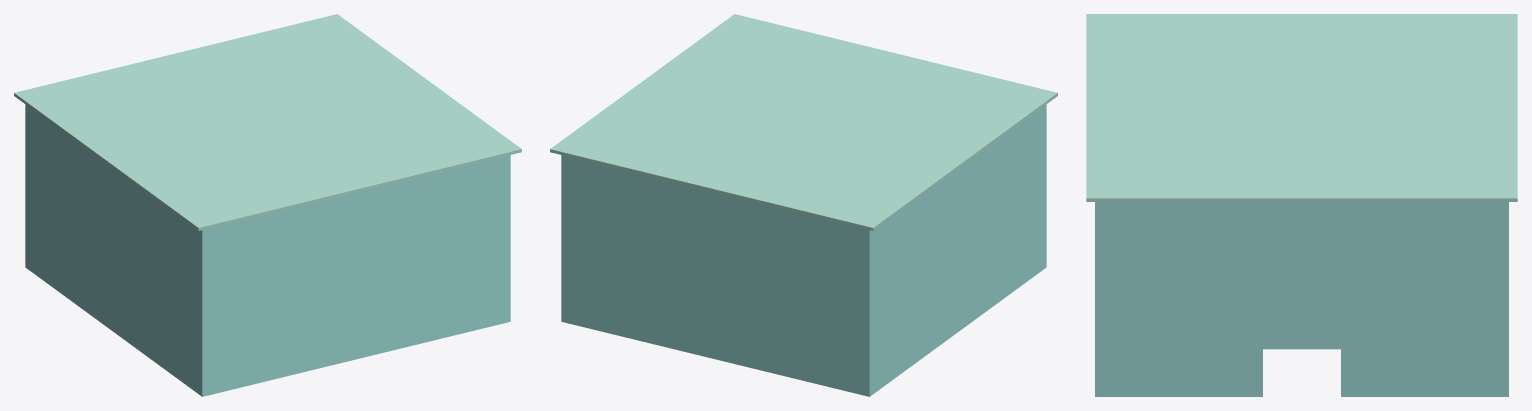
Rendered from normalBuilding.fbx.
3 renders of one model, left to right at view 1: azimuth 30°, elevation 25°; view 2: azimuth 150°, elevation 25°; view 3: azimuth 270°, elevation 25°, orthographic. The views are drawn at different scales.
Visible parts, largest first — view 1: Plane; view 2: Plane; view 3: Plane.
Part boxes in pixels (<box>): Plane: <box>14,14,521,396</box>; Plane: <box>550,14,1057,396</box>; Plane: <box>1086,14,1517,396</box>.
Size of the model in its own units: 3496 by 1793 by 3458.
